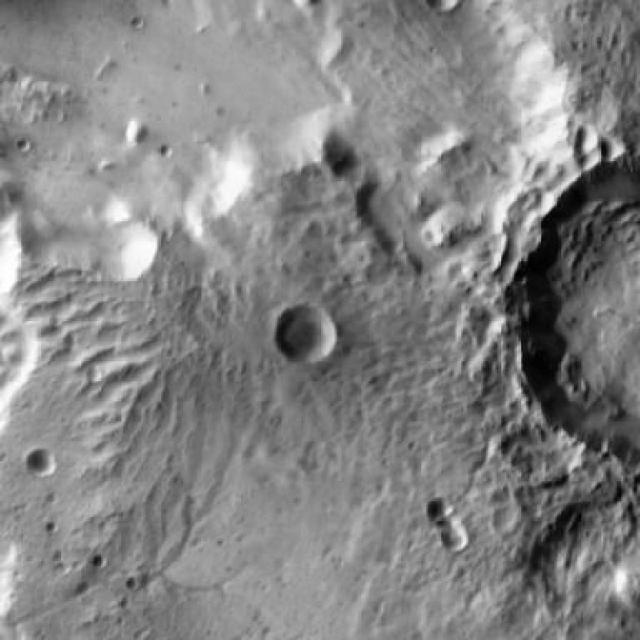crater: (512, 167, 640, 461), (272, 302, 337, 364), (26, 446, 59, 477), (438, 522, 467, 550), (430, 499, 452, 521)
